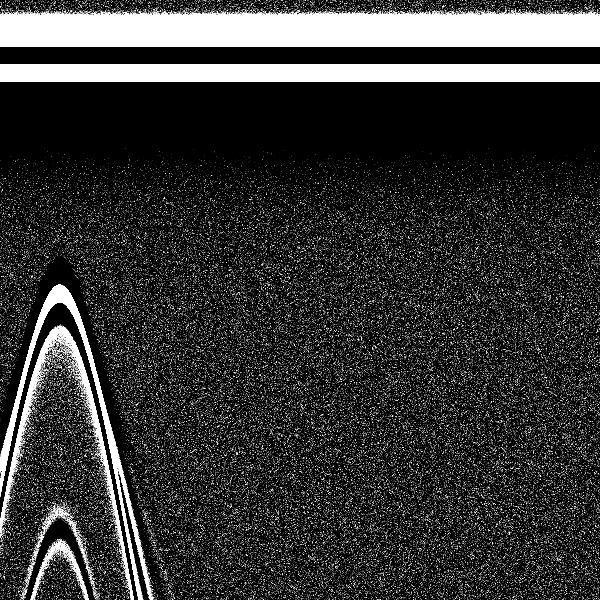pipe: (12, 5, 106, 361)
